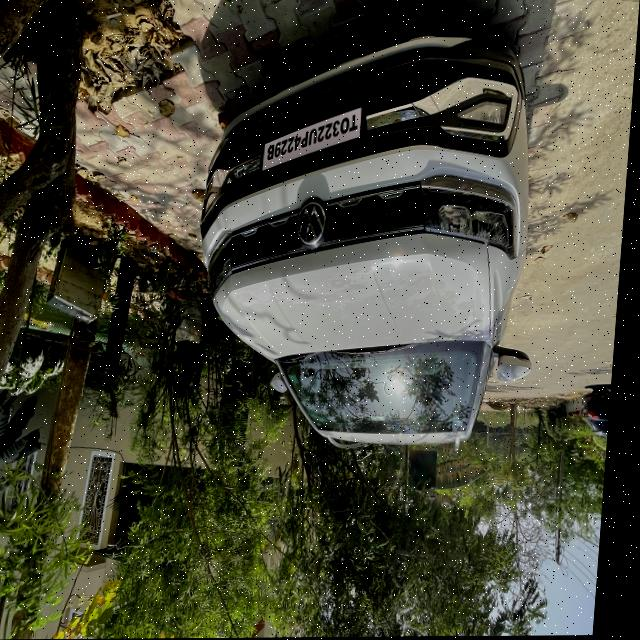plate: (263, 107, 369, 173)
